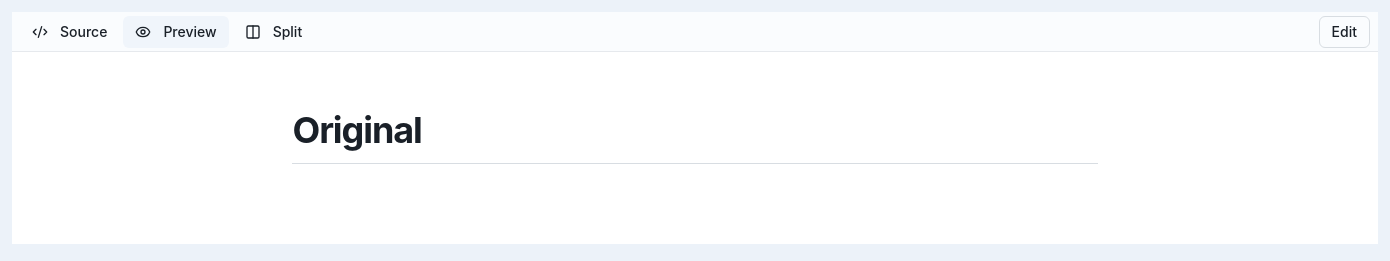
TextDocumentRenderer editing lifecycle › exits a clean editing session directly
The width and height of the screenshot is (1390, 261).
Click the button "Edit" at (1344, 32), box [1319, 16, 1370, 48]
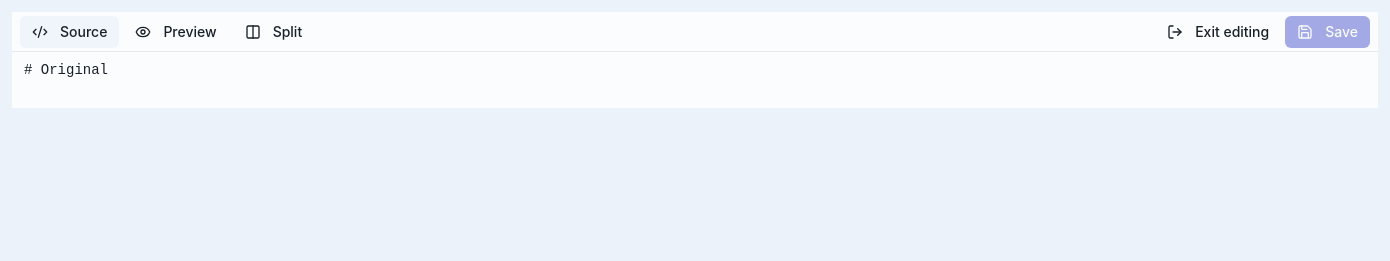
Result: the button "Exit editing" is shown
Click the button "Exit editing" at (1218, 32), box [1155, 16, 1281, 48]
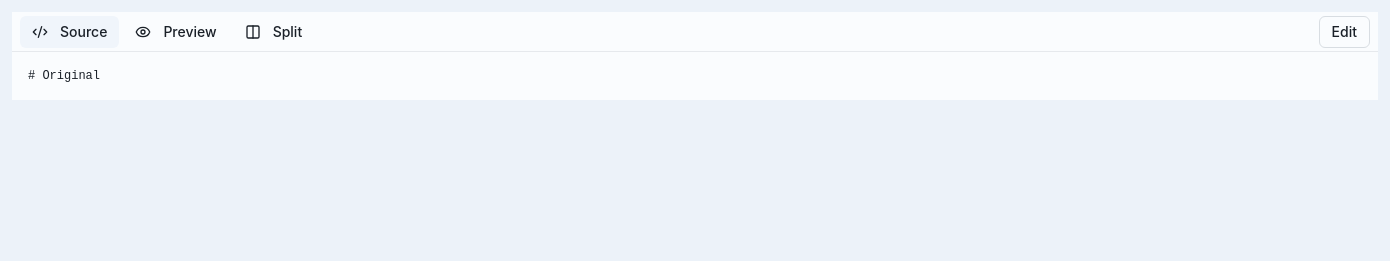
Result: the button "Exit editing" is gone
